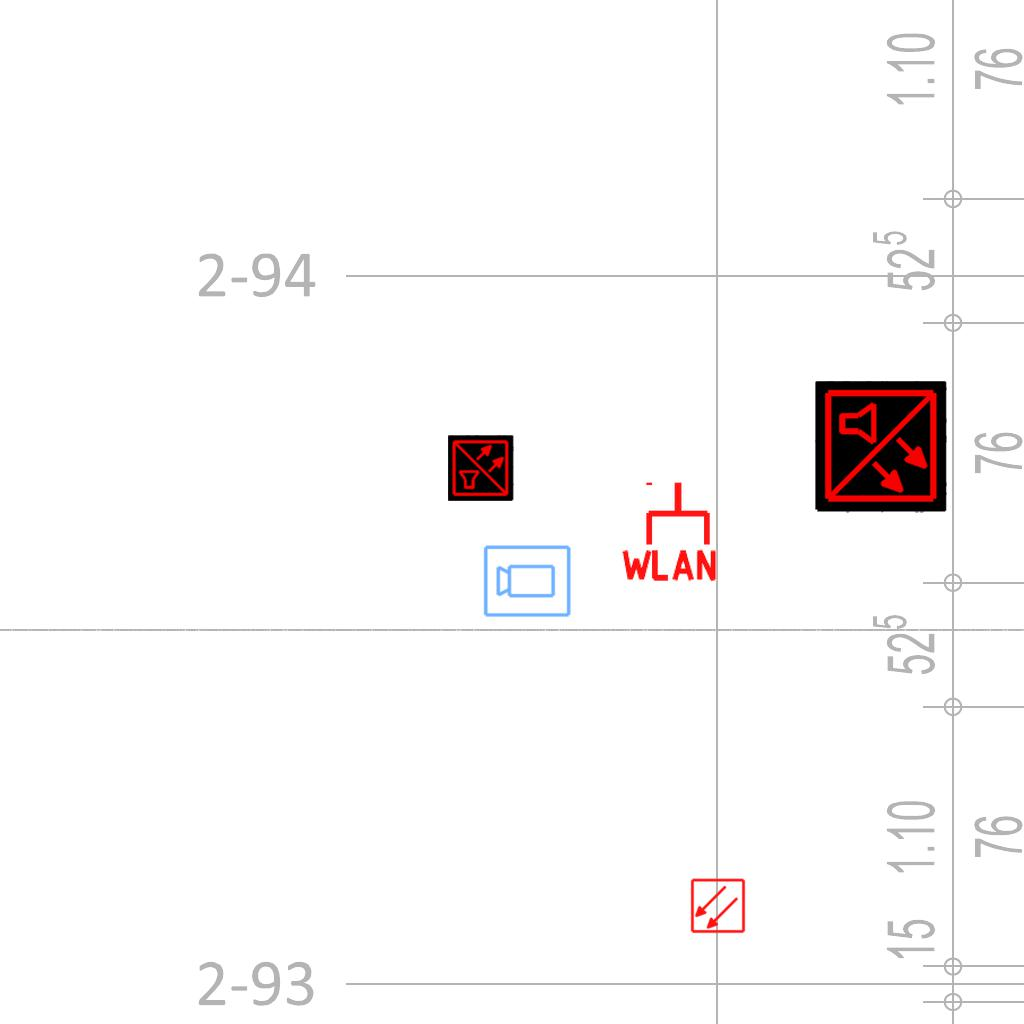KFO_Kamera_mit_Festobjektiv: (482, 542, 573, 619)
OKW_Multisensormelder_(Kombination_optischer_Rauch-Kahlenmonoxid_Waerme-Melder): (815, 381, 947, 513), (448, 435, 514, 501)
RMO_Rauchmelder_optischer: (690, 878, 746, 934)
WLAN: (617, 478, 721, 583)
